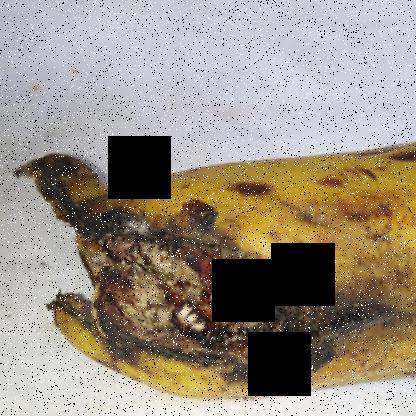rotten: (1, 133, 381, 415)
